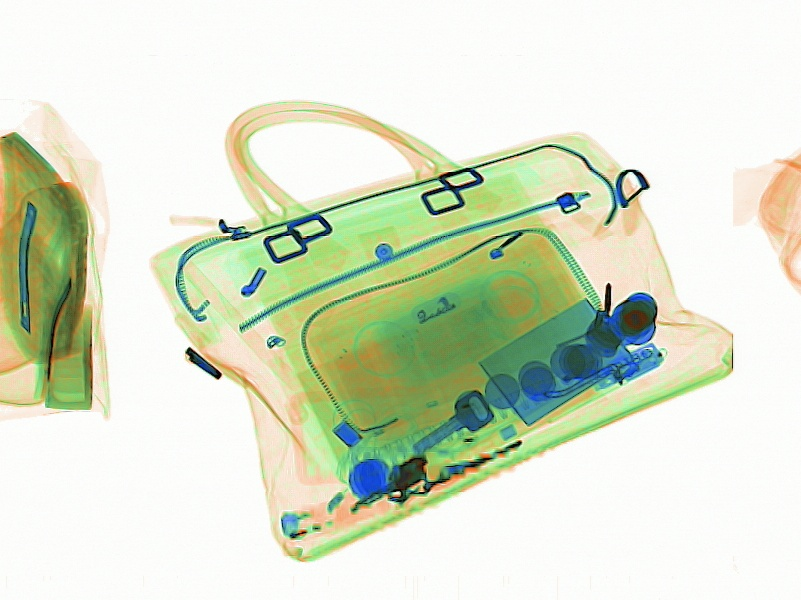lighter: (280, 492, 378, 540)
